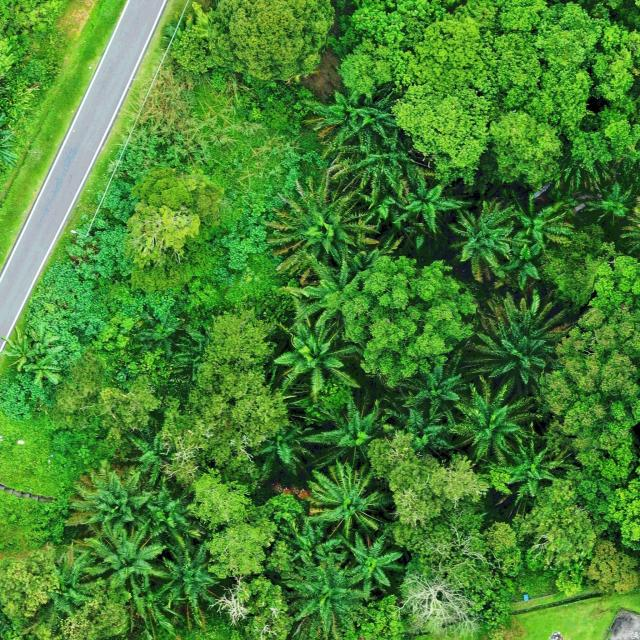Tree: (326, 256, 479, 392), (258, 166, 384, 288), (121, 168, 222, 296), (462, 288, 575, 393), (223, 0, 337, 84), (443, 374, 544, 468), (267, 304, 360, 406), (376, 160, 474, 254), (278, 554, 373, 640), (72, 523, 166, 604), (446, 190, 521, 290), (307, 393, 398, 474), (61, 464, 152, 540), (304, 458, 386, 540), (314, 91, 406, 157), (502, 431, 574, 505), (151, 542, 219, 620), (339, 530, 409, 602), (135, 486, 205, 548), (391, 359, 461, 420), (0, 551, 61, 619), (0, 372, 58, 422), (0, 326, 36, 372), (22, 354, 64, 387), (26, 324, 64, 359)
